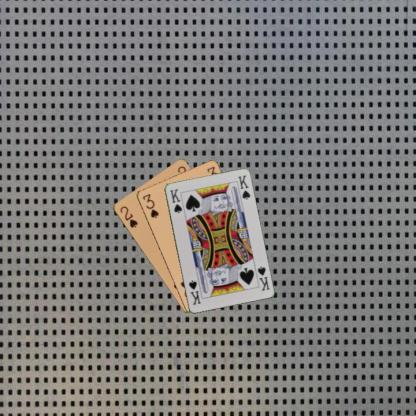2s: (117, 203, 139, 229)
3s: (140, 191, 160, 220)
Ks: (255, 263, 270, 292), (168, 186, 183, 214)
